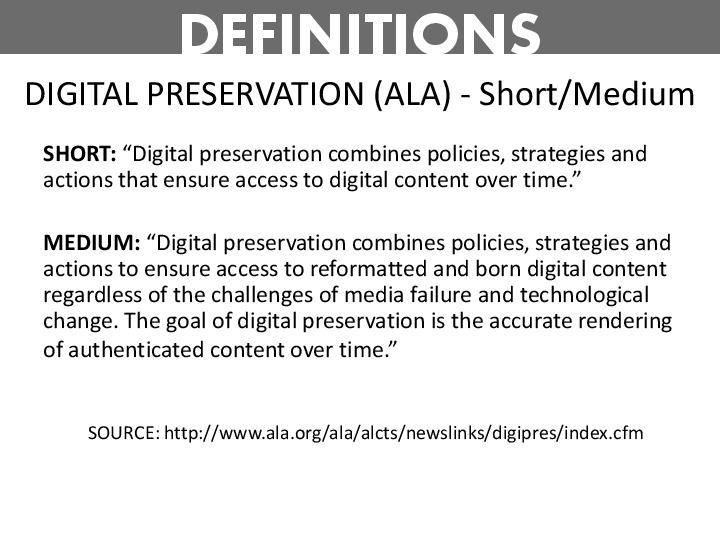paragraph: (35, 136, 689, 461)
title: (12, 3, 705, 128)
